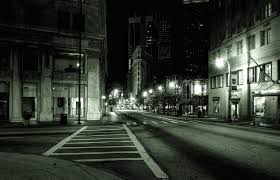strada: (123, 108, 280, 179)
